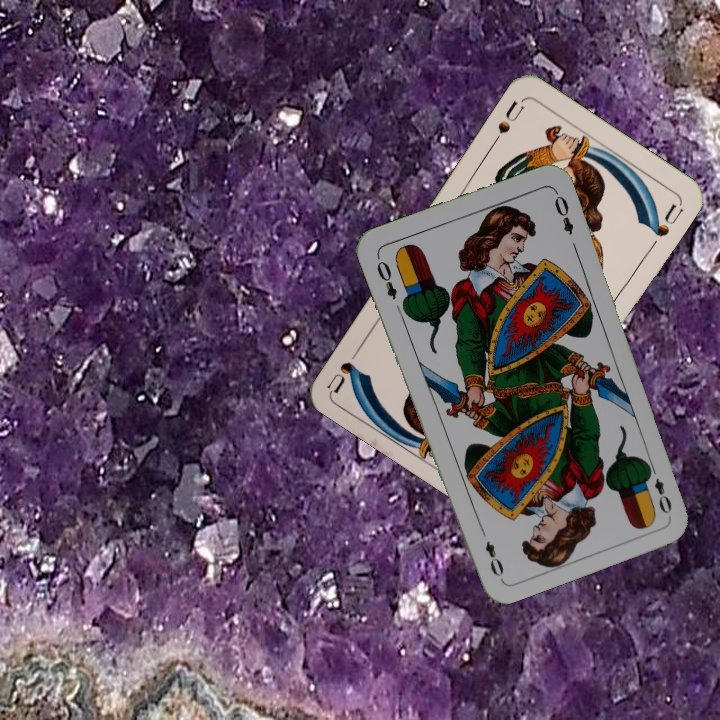EO: (644, 460, 675, 517), (372, 252, 400, 302)
SU: (488, 96, 527, 148)
